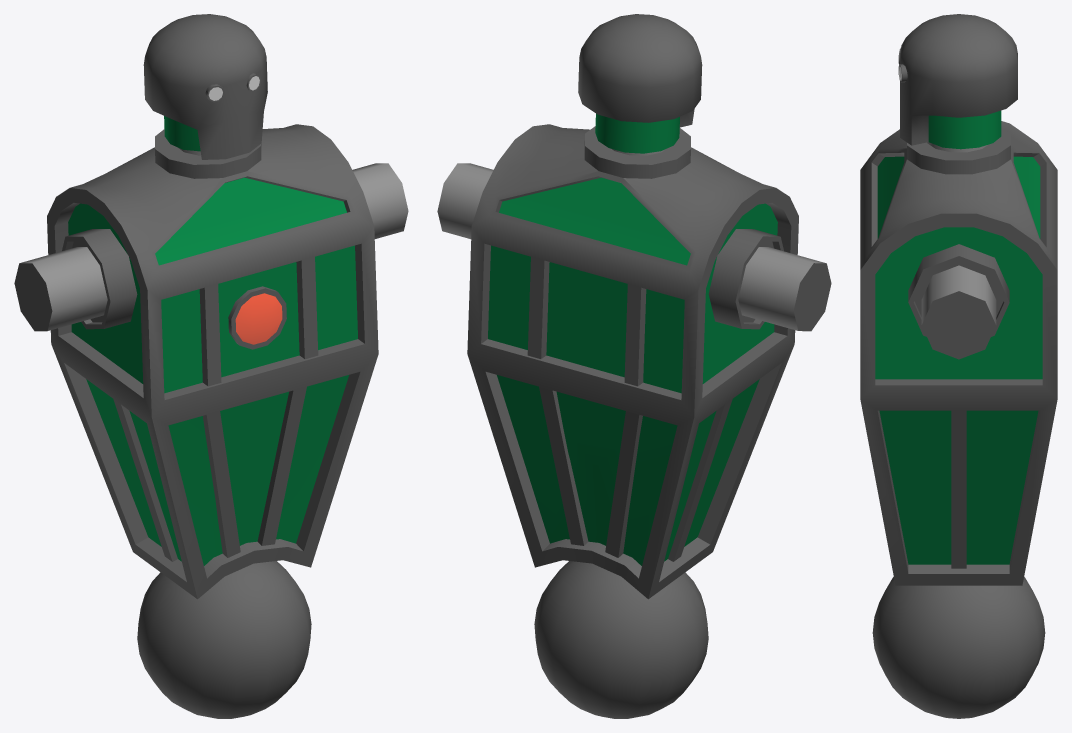
The model's file is perso_leanRight.fbx.
The picture shows the model from 3 angles, left to right: view 1: azimuth 30°, elevation 25°; view 2: azimuth 150°, elevation 25°; view 3: azimuth 270°, elevation 25°; orthographic projection.
Parts seen in each view (by area): view 1: body, Locomotion, head, bars; view 2: body, Locomotion, head, bars; view 3: body, Locomotion, head, bars.
Boxes of the visible parts, box(x1,y1,x2,y2) form: body: box(14, 124, 408, 599); Locomotion: box(137, 561, 311, 718); head: box(143, 14, 267, 159); bars: box(113, 257, 318, 561); body: box(437, 124, 831, 599); Locomotion: box(534, 561, 708, 718); head: box(578, 14, 702, 153); bars: box(527, 257, 732, 561); body: box(860, 121, 1057, 585); Locomotion: box(872, 577, 1045, 718); head: box(900, 14, 1017, 149); bars: box(951, 410, 966, 568).
Size of the model in its own units: 3.2 by 5.92 by 1.56.
